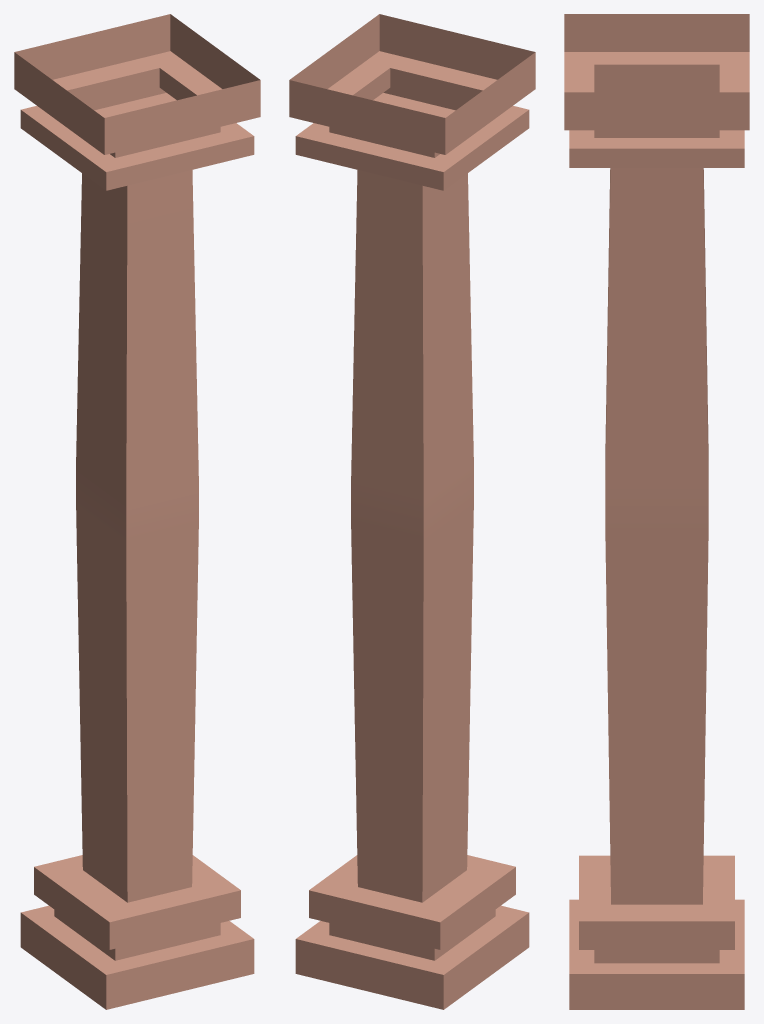
The model's file is Pilar_De_Madera_001.fbx.
3 renders of one model, left to right at view 1: azimuth 30°, elevation 25°; view 2: azimuth 150°, elevation 25°; view 3: azimuth 270°, elevation 25°, orthographic. The views are drawn at different scales.
Parts seen in each view (by area): view 1: Pilar_001; view 2: Pilar_001; view 3: Pilar_001.
Part boxes in pixels (x1=…): Pilar_001: x1=14, y1=14, x2=260, y2=1009; Pilar_001: x1=289, y1=14, x2=535, y2=1009; Pilar_001: x1=564, y1=14, x2=749, y2=1009.
Size of the model in its own units: 0.00735 by 0.0403 by 0.00735.
